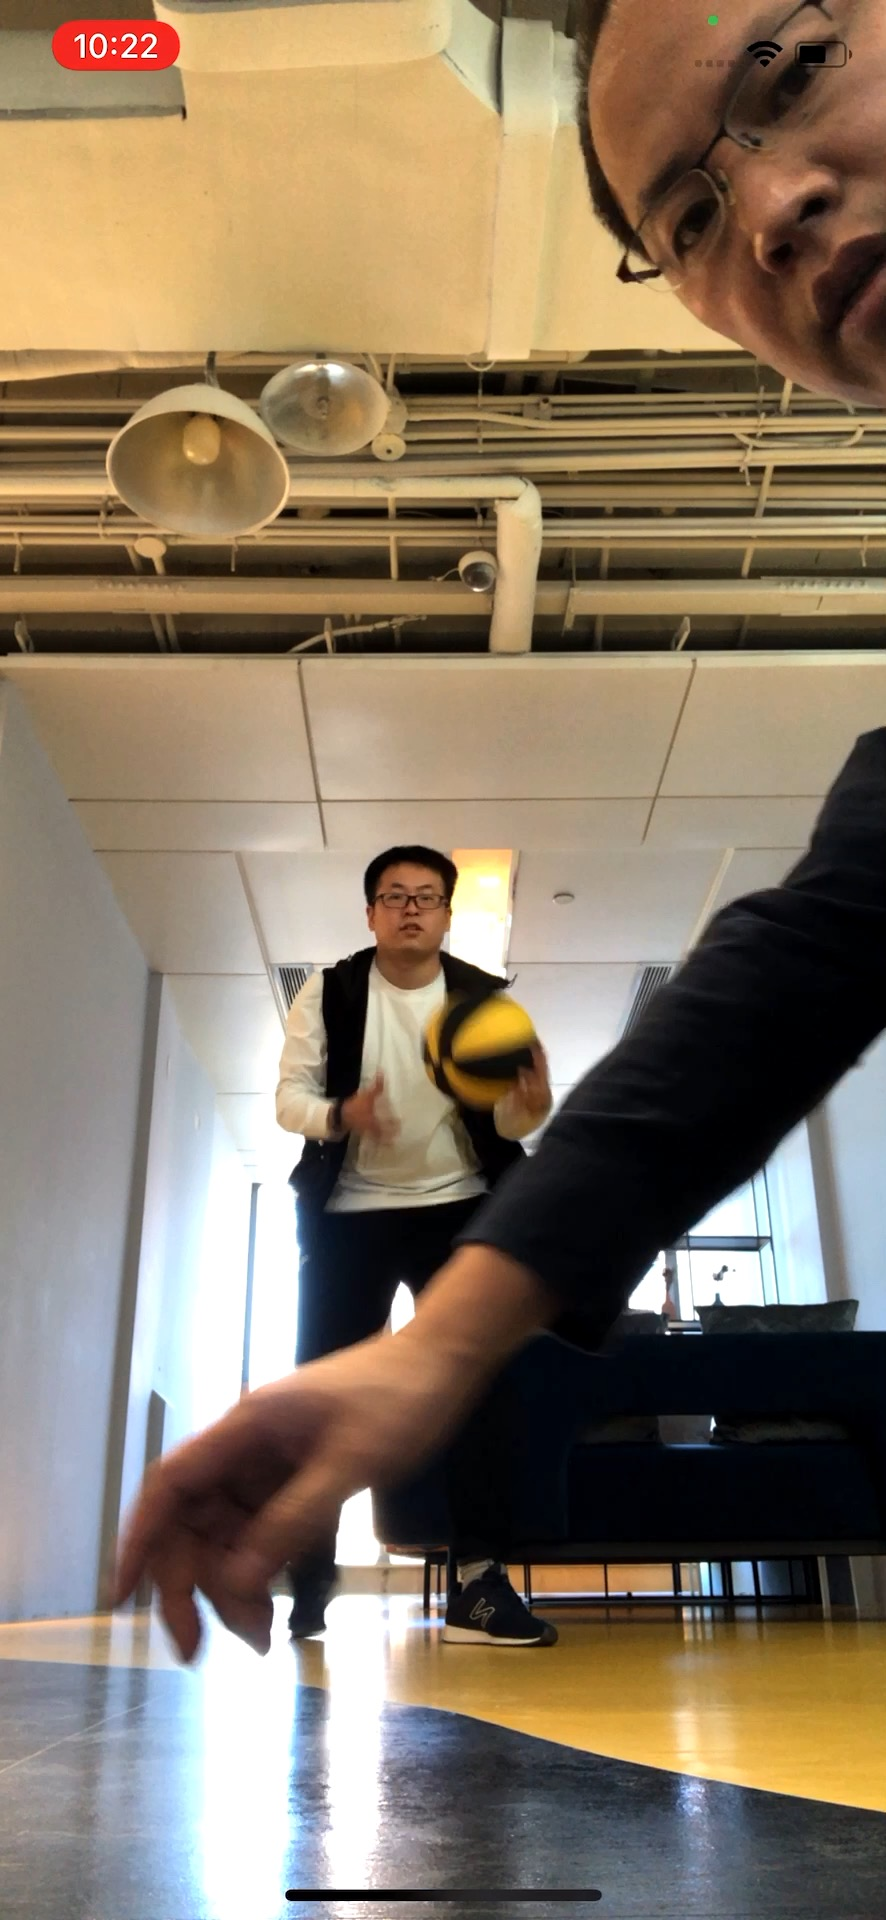ball: (425, 988, 541, 1108)
